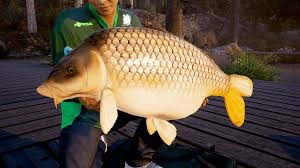carp: (34, 25, 255, 147)
